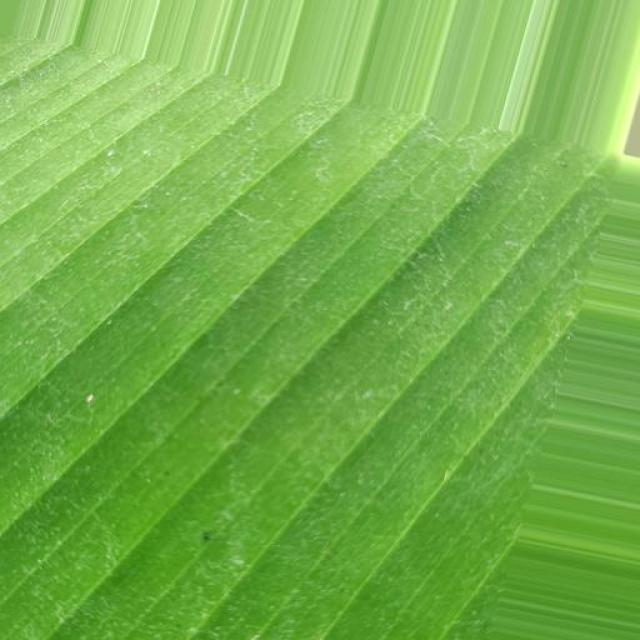Black_leaf_spot: (5, 21, 634, 613)
